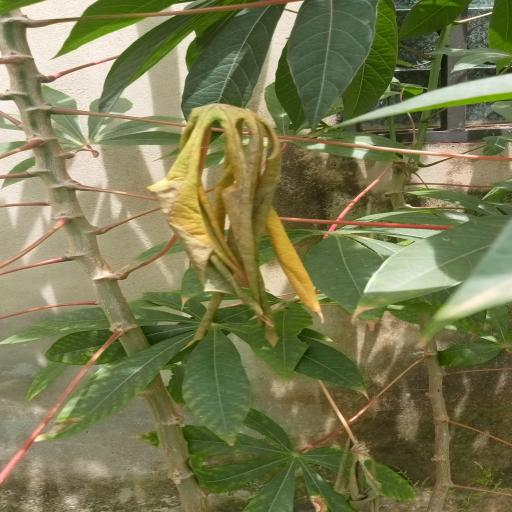Cassava_Root_Rot: (158, 100, 322, 318)
